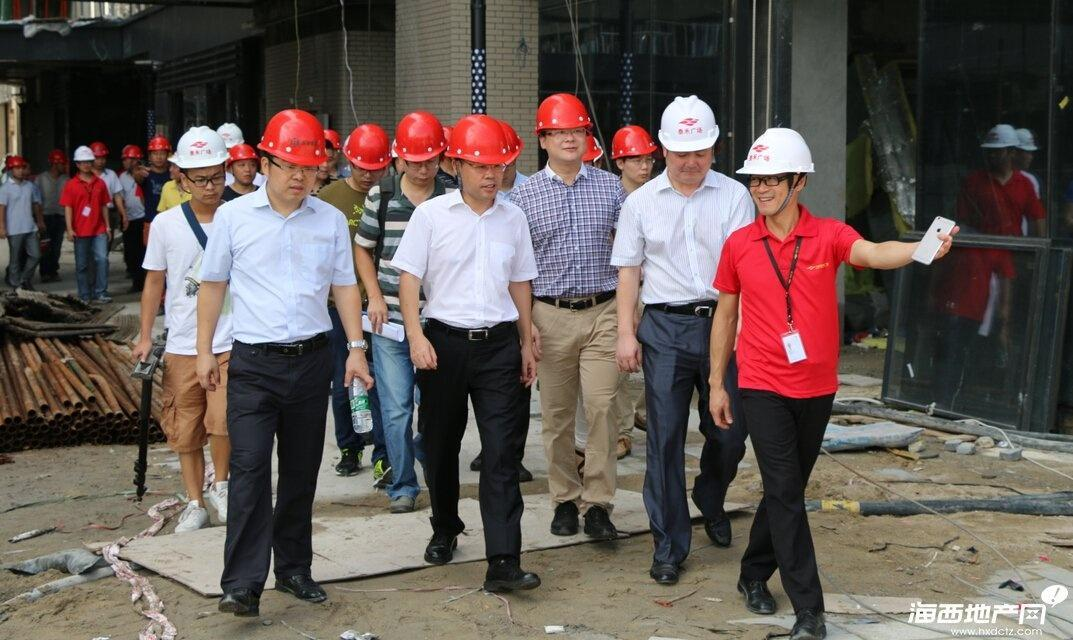helmet: (255, 107, 329, 175), (735, 123, 817, 179), (653, 95, 727, 157), (443, 113, 517, 161), (543, 87, 585, 135)
no-vest: (219, 199, 353, 372), (733, 231, 851, 409), (419, 191, 517, 357), (637, 169, 743, 317)
person: (189, 101, 385, 625), (599, 75, 753, 617), (385, 115, 548, 599), (733, 119, 870, 640), (527, 85, 640, 565)
vest: (392, 103, 447, 168), (348, 113, 393, 176)
